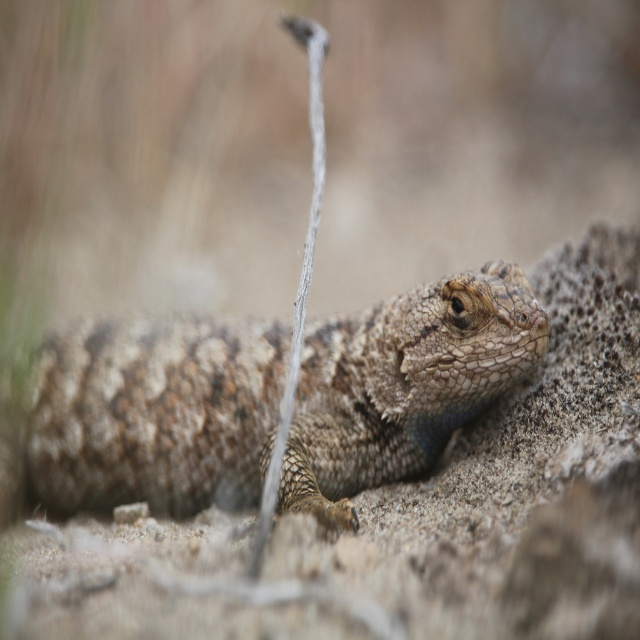Lizard: (98, 237, 561, 563)
